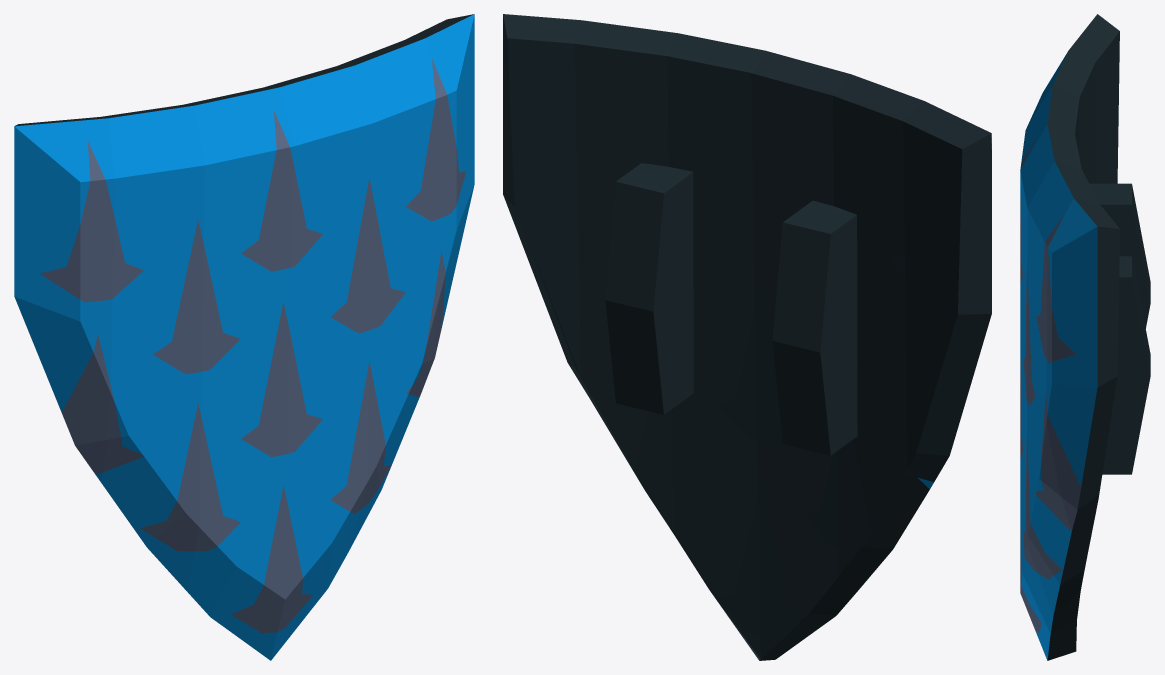
File: Shield 03.fbx
3 views of the same model, side by side, from view 1: azimuth 30°, elevation 25°; view 2: azimuth 150°, elevation 25°; view 3: azimuth 270°, elevation 25° (orthographic). The views are drawn at different scales.
Visible parts, largest first — view 1: Shiled 03; view 2: Shiled 03; view 3: Shiled 03.
Boxes of the visible parts, bbox=[...] form: Shiled 03: bbox=[14, 14, 474, 660]; Shiled 03: bbox=[503, 14, 991, 660]; Shiled 03: bbox=[1020, 14, 1150, 660].
Size of the model in its own units: 82.17 by 97.46 by 21.31.
